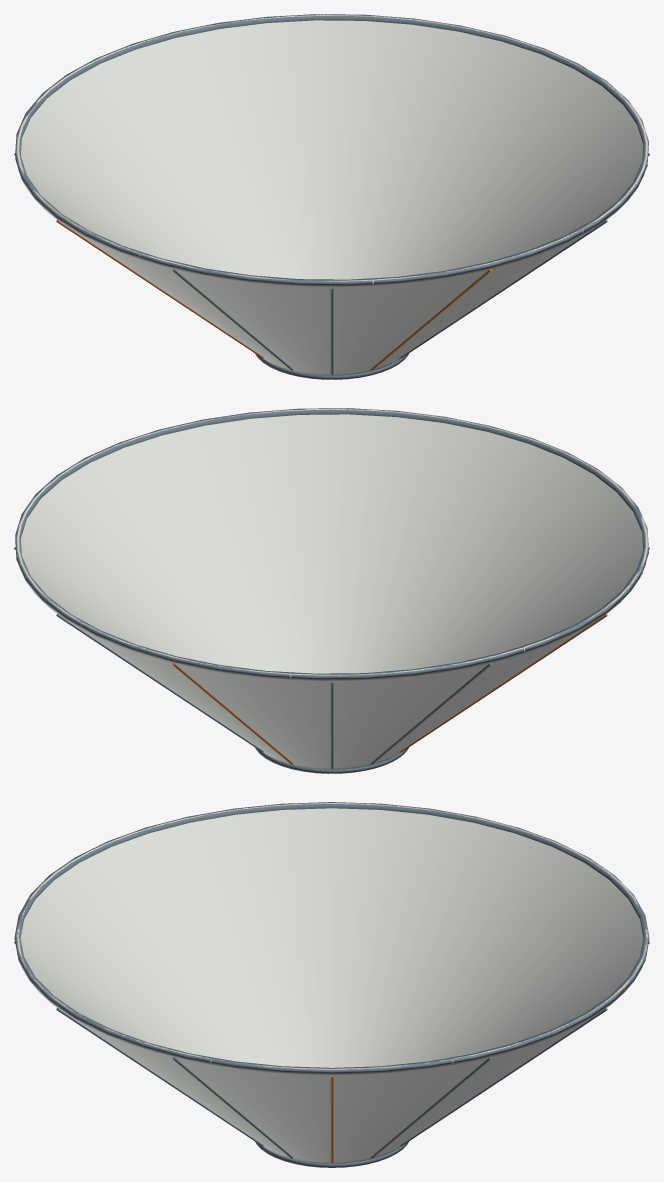
File: jugre_adapter_250_1006.glb
3 views of the same model, one above another, from view 1: azimuth 30°, elevation 25°; view 2: azimuth 150°, elevation 25°; view 3: azimuth 270°, elevation 25° (orthographic).
Visible parts, largest first — view 1: jugre_adapter_250_1006.mesh_Pale_thermal_blanket, jugre_adapter_250_1006.mesh_Machined_steel, jugre_adapter_250_1006.mesh_Spray-on_insulation; view 2: jugre_adapter_250_1006.mesh_Pale_thermal_blanket, jugre_adapter_250_1006.mesh_Machined_steel, jugre_adapter_250_1006.mesh_Spray-on_insulation; view 3: jugre_adapter_250_1006.mesh_Pale_thermal_blanket, jugre_adapter_250_1006.mesh_Machined_steel.
Part boxes in pixels (left/top/right/bottom): jugre_adapter_250_1006.mesh_Pale_thermal_blanket: left=16, top=14, right=648, bottom=375; jugre_adapter_250_1006.mesh_Machined_steel: left=14, top=14, right=649, bottom=379; jugre_adapter_250_1006.mesh_Spray-on_insulation: left=56, top=220, right=491, bottom=370; jugre_adapter_250_1006.mesh_Pale_thermal_blanket: left=16, top=408, right=648, bottom=769; jugre_adapter_250_1006.mesh_Machined_steel: left=14, top=408, right=649, bottom=773; jugre_adapter_250_1006.mesh_Spray-on_insulation: left=172, top=614, right=607, bottom=764; jugre_adapter_250_1006.mesh_Pale_thermal_blanket: left=15, top=802, right=648, bottom=1163; jugre_adapter_250_1006.mesh_Machined_steel: left=14, top=802, right=649, bottom=1167.
Size of the model in its own units: 10.11 by 3.48 by 10.11.
